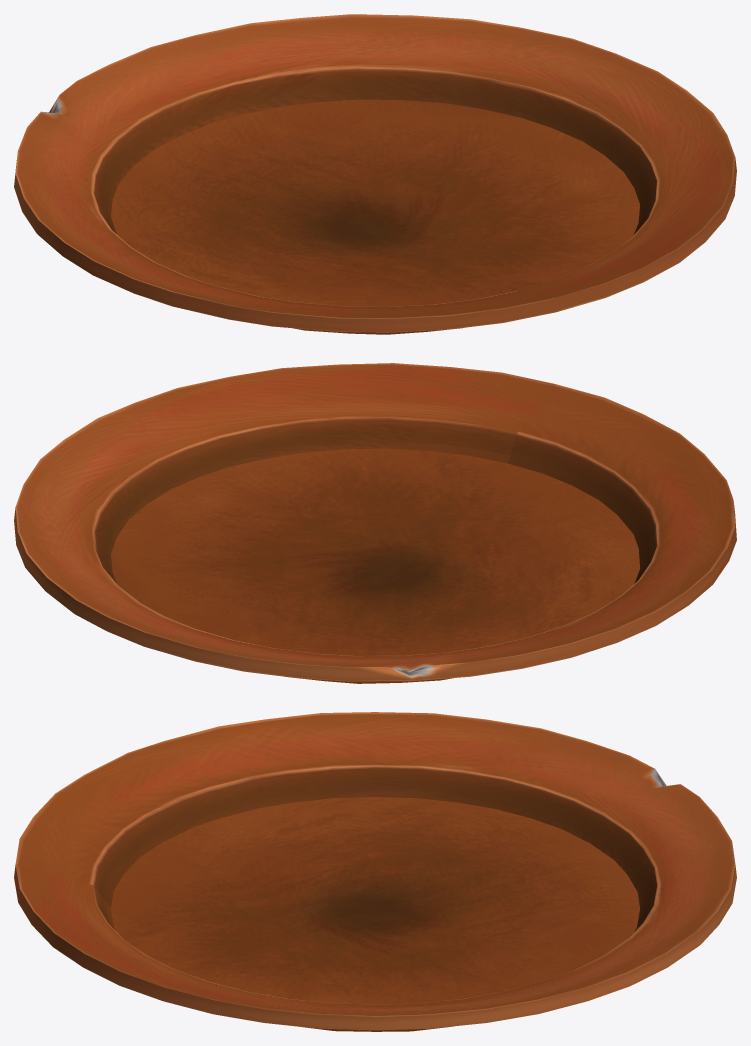
Rendered from Bord.fbx.
3 renders of one model, top to bottom at view 1: azimuth 30°, elevation 25°; view 2: azimuth 150°, elevation 25°; view 3: azimuth 270°, elevation 25°, orthographic.
Parts seen in each view (by area): view 1: pCylinder1; view 2: pCylinder1; view 3: pCylinder1.
Boxes of the visible parts, left/top/right/bottom form: pCylinder1: left=14, top=14, right=736, bottom=334; pCylinder1: left=14, top=363, right=736, bottom=683; pCylinder1: left=14, top=712, right=736, bottom=1031.
Bounding box in the file's own units: 15.4 × 1.52 × 15.4.
